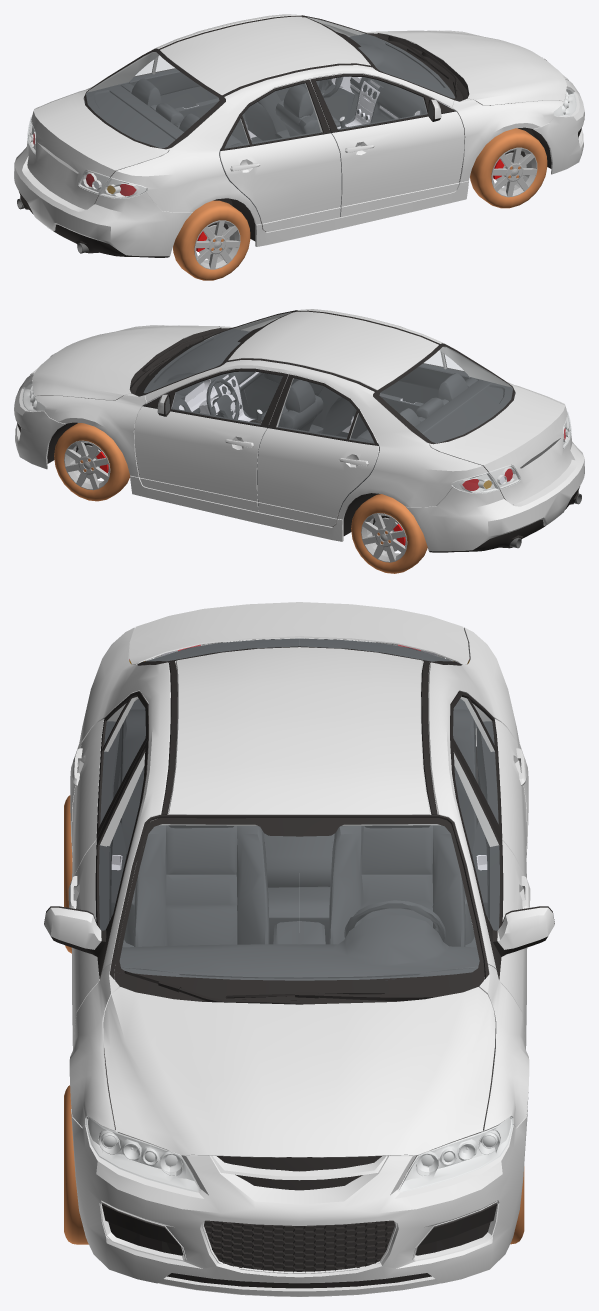
Rendered from SEDAN13.obj.
3 renders of one model, top to bottom at view 1: azimuth 30°, elevation 25°; view 2: azimuth 150°, elevation 25°; view 3: azimuth 270°, elevation 25°, orthographic. The views are drawn at different scales.
Parts seen in each view (by area): view 1: 13; view 2: 13; view 3: 13.
Part boxes in pixels (x1,y1,x2,y2): 13: [14, 14, 584, 280]; 13: [14, 309, 584, 573]; 13: [44, 602, 554, 1296].
Size of the model in its own units: 4.64 by 1.42 by 1.96.
